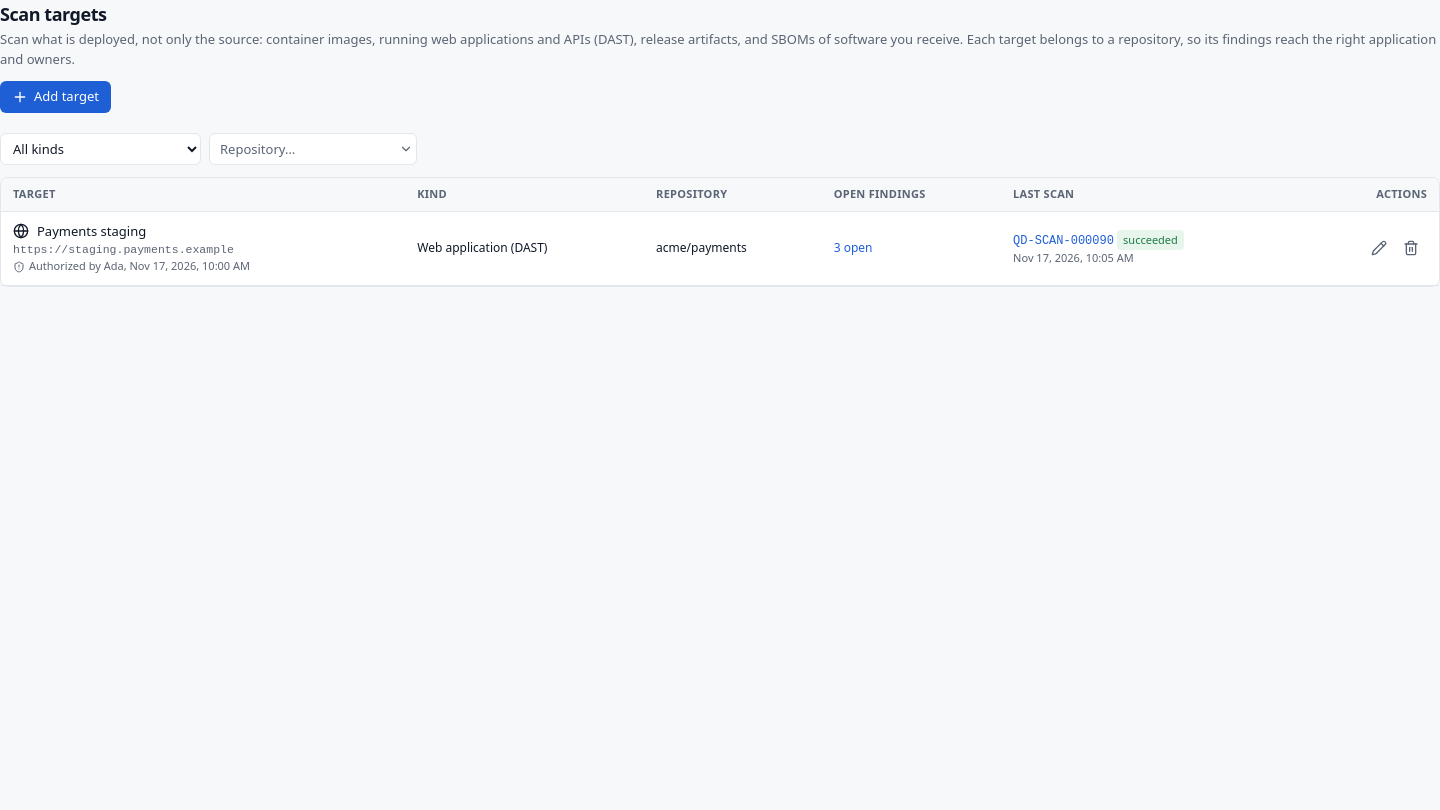
Test: scan targets › requires a new authorization when a DAST target's address changes and never resends the stored secret
The image size is (1440, 810).
Later steps or results of the test are not shown.
Click the button named "Edit Payments staging" at (1379, 248), box [1363,232,1395,264]
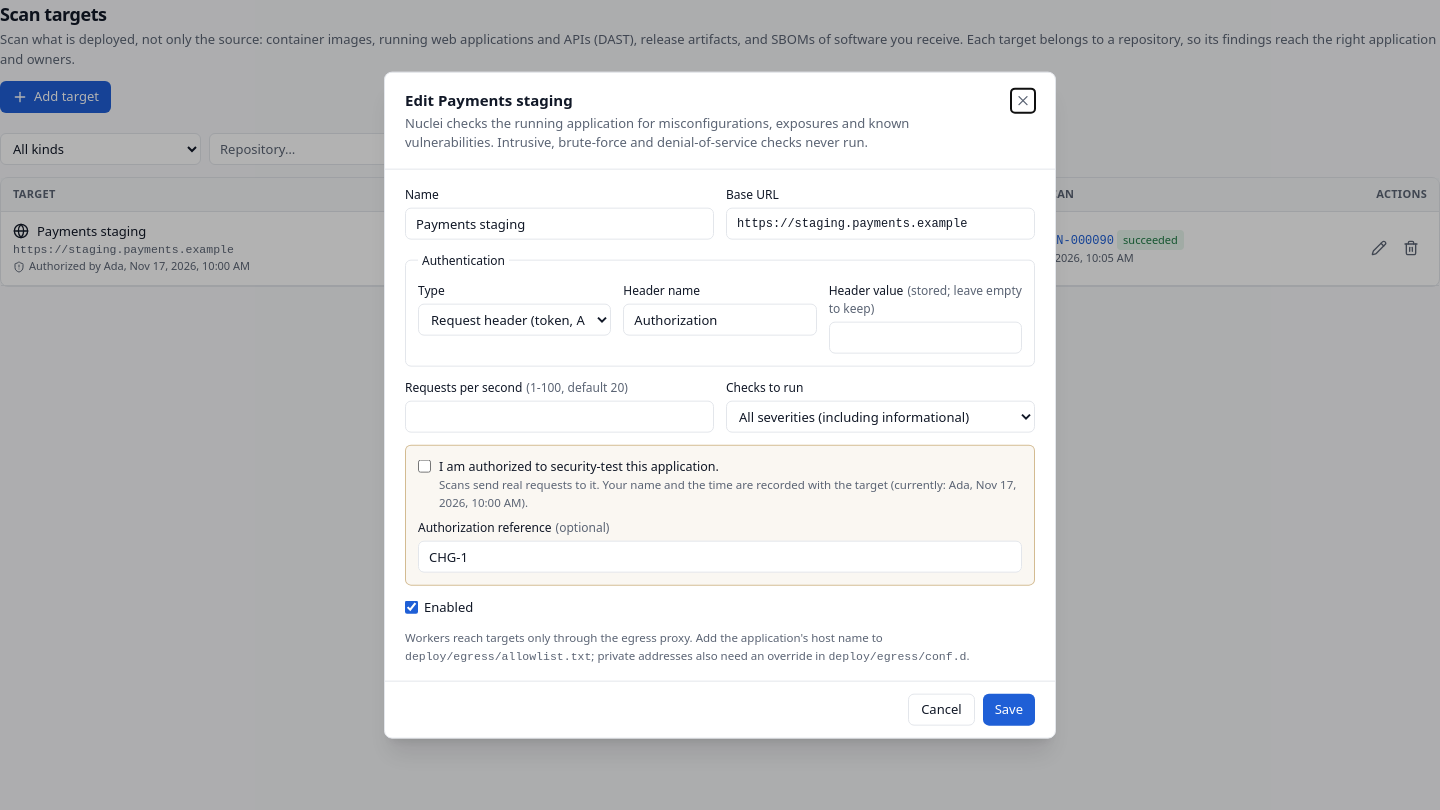
Replace the text in the field labelled "Base URL" with "https://prod.payments.example" at (880, 223), box [726,207,1035,239]
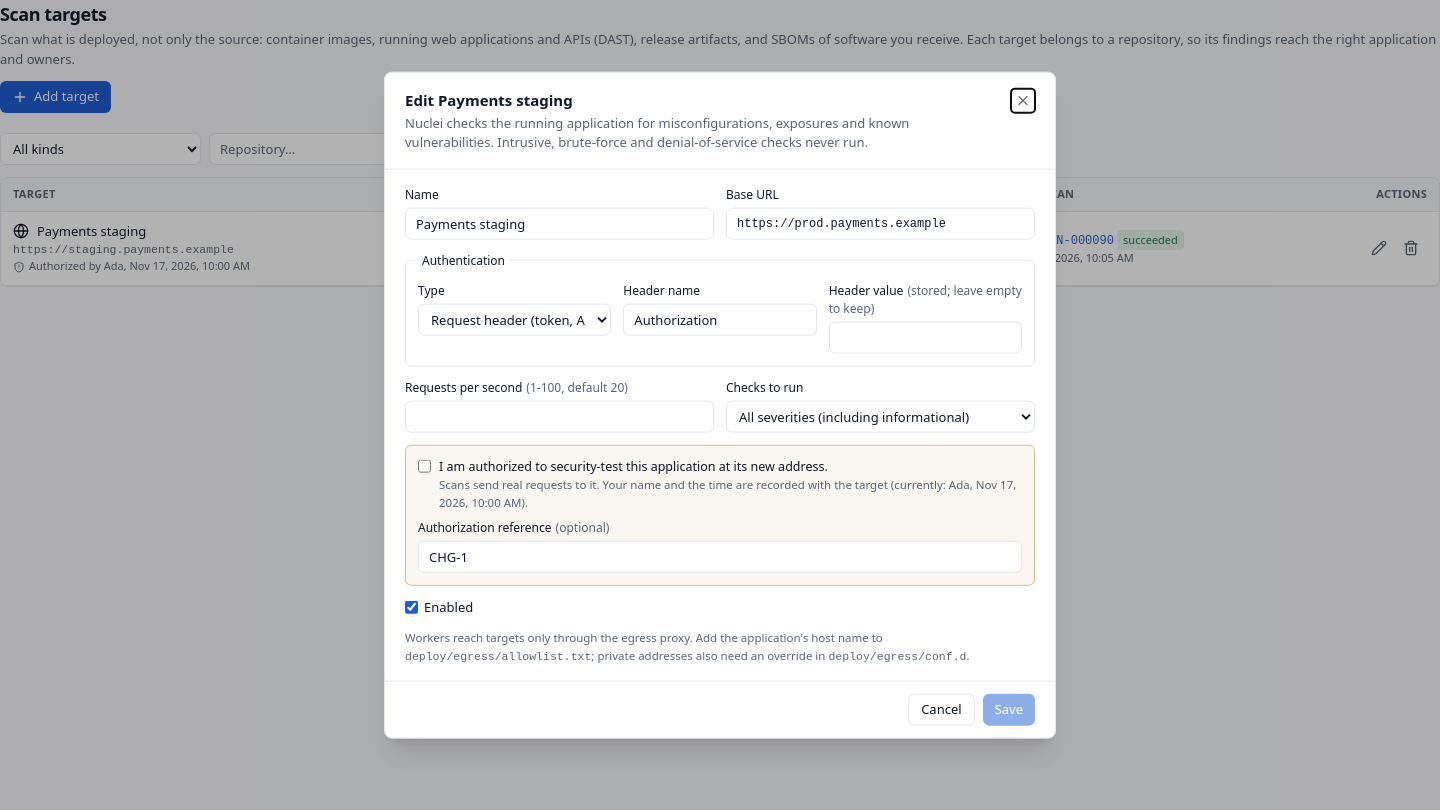
Expected: the button "Save" is disabled, [983,693,1035,725]
Click the checkbox labelled "I am authorized to security-test this application at its new address" at (424, 466), box [418,459,431,472]
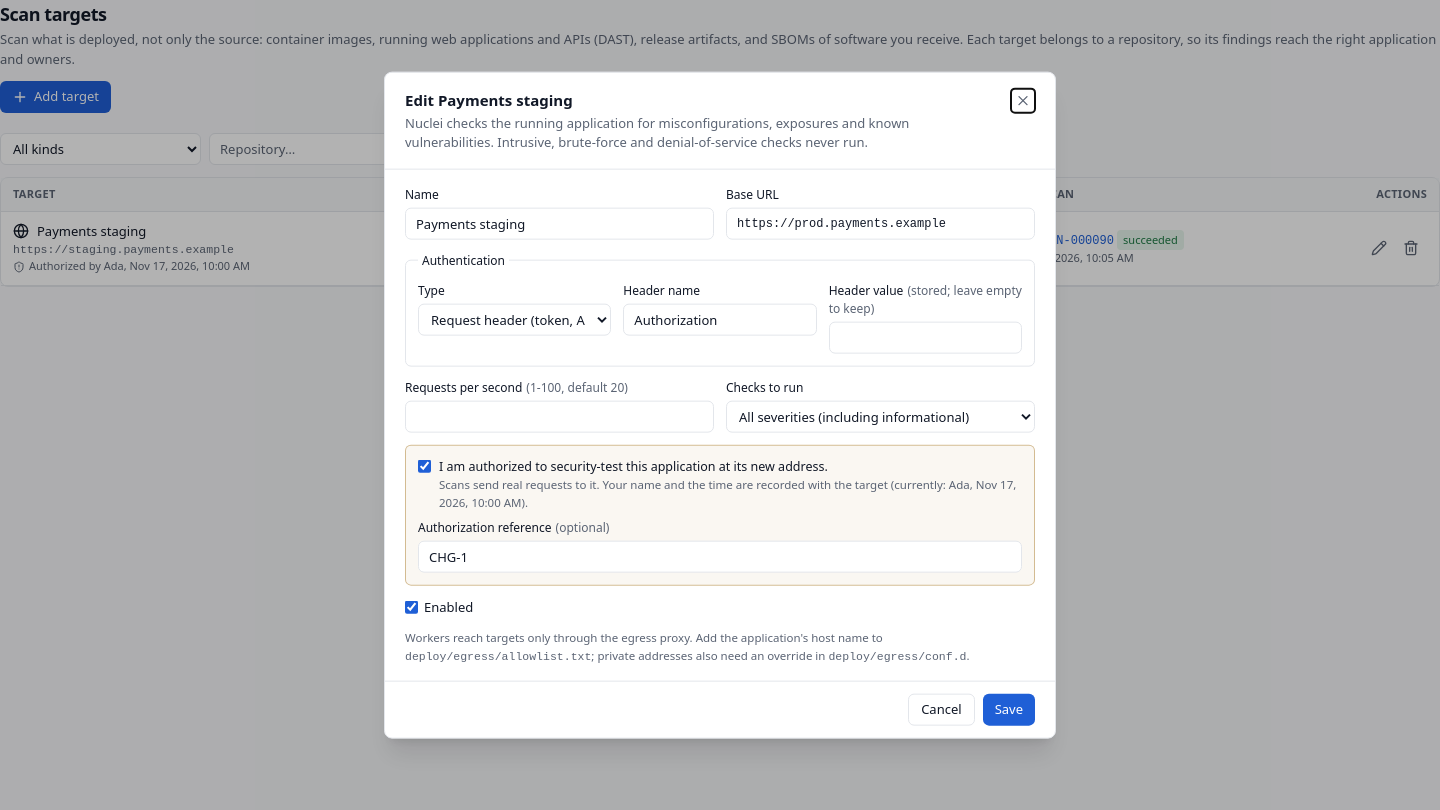
Expected: the button "Save" is enabled, [983,693,1035,725]
